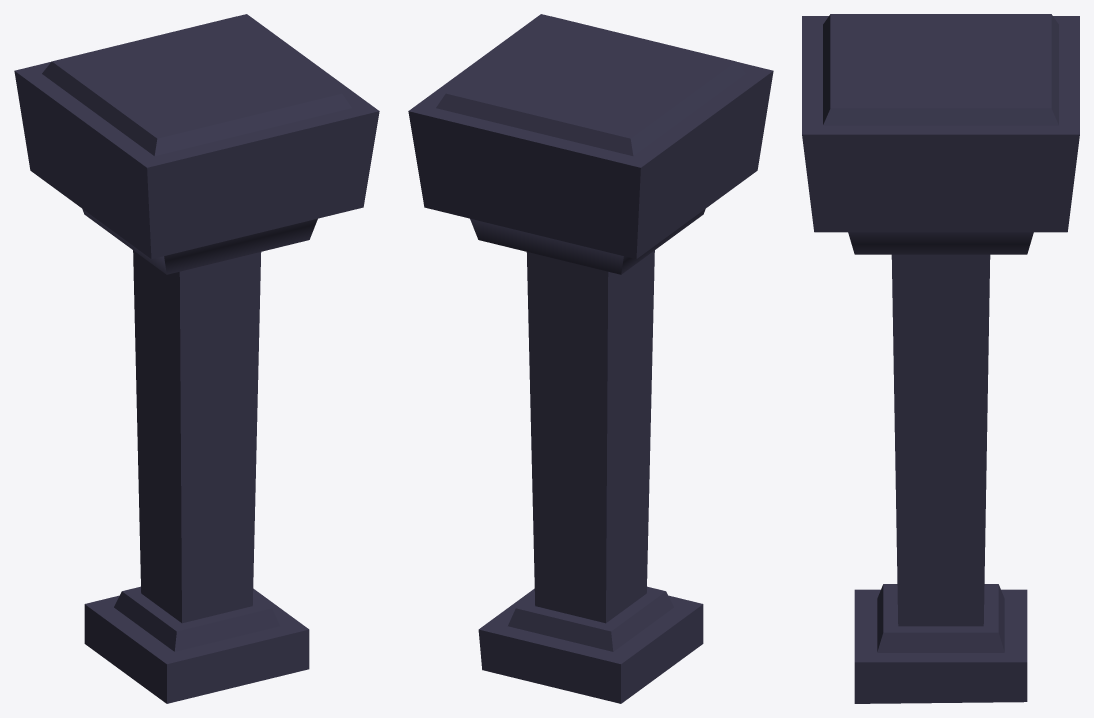
File: SM_Shelf.fbx
3 views of the same model, side by side, from view 1: azimuth 30°, elevation 25°; view 2: azimuth 150°, elevation 25°; view 3: azimuth 270°, elevation 25° (orthographic). The views are drawn at different scales.
Visible parts, largest first — view 1: pCube63; view 2: pCube63; view 3: pCube63.
Boxes of the visible parts, left/top/right/bottom form: pCube63: left=14, top=14, right=379, bottom=703; pCube63: left=408, top=14, right=773, bottom=703; pCube63: left=802, top=14, right=1079, bottom=703.
Size of the model in its own units: 14.33 by 34.09 by 14.16.
